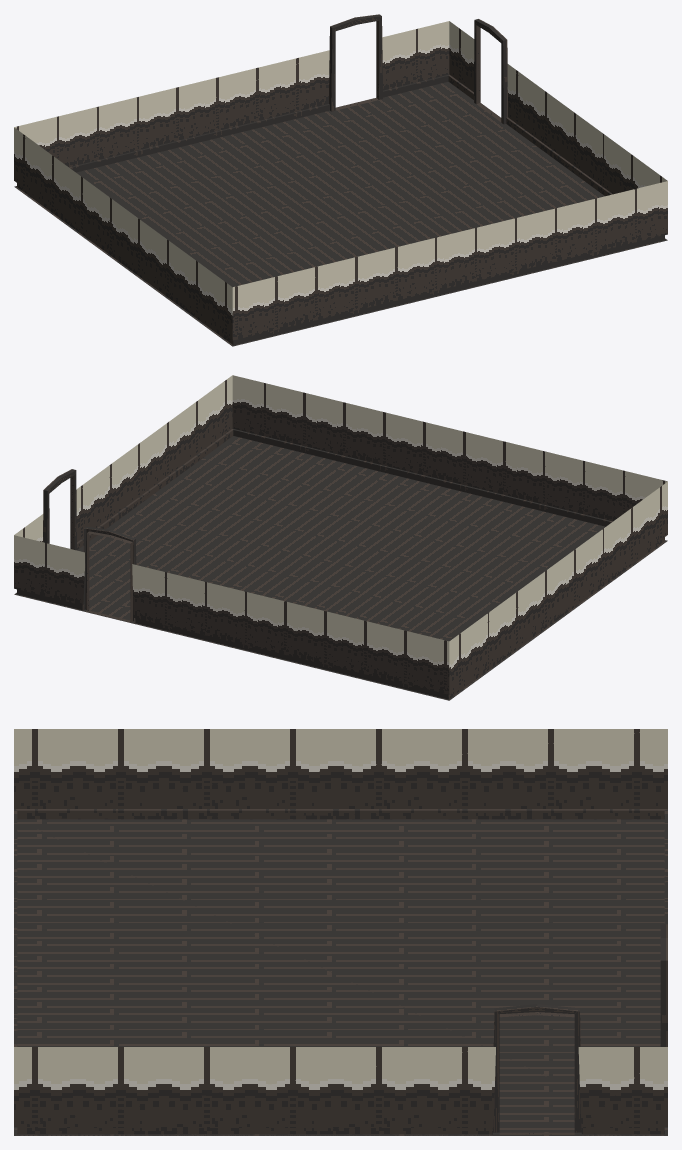
Rendered from FrontLounge.obj.
3 renders of one model, top to bottom at view 1: azimuth 30°, elevation 25°; view 2: azimuth 150°, elevation 25°; view 3: azimuth 270°, elevation 25°, orthographic. The views are drawn at different scales.
Parts seen in each view (by area): view 1: FrontLounge_Plane.010; view 2: FrontLounge_Plane.010; view 3: FrontLounge_Plane.010.
Part boxes in pixels (<box>): FrontLounge_Plane.010: <box>14,14,667,346</box>; FrontLounge_Plane.010: <box>14,375,667,700</box>; FrontLounge_Plane.010: <box>14,729,667,1135</box>.
Bounding box in the file's own units: 11.5 × 2.17 × 10.
